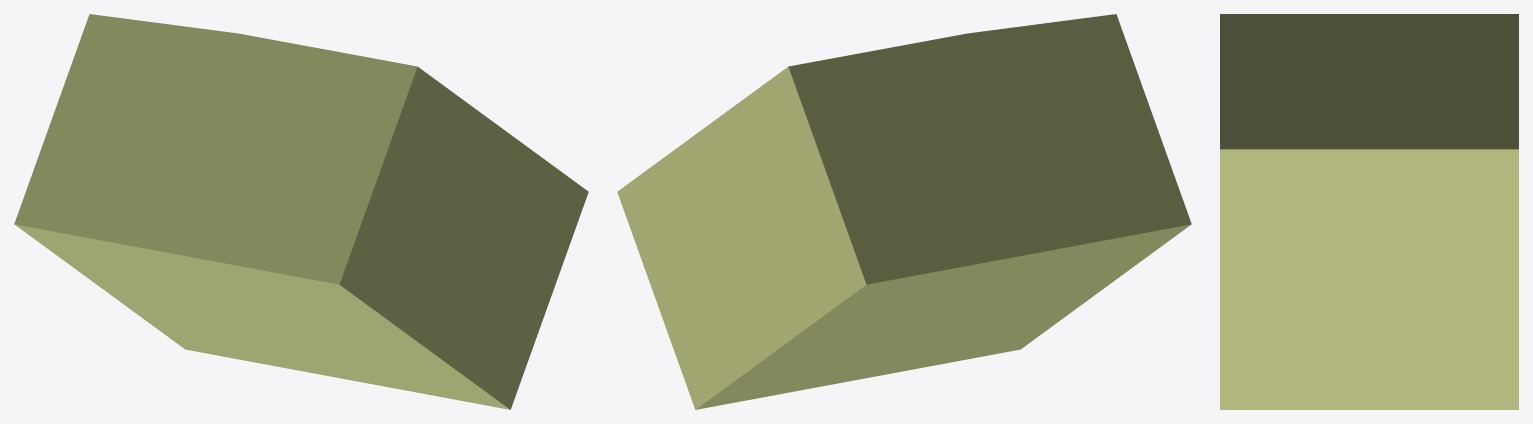
3 views of the same model, side by side, from view 1: azimuth 30°, elevation 25°; view 2: azimuth 150°, elevation 25°; view 3: azimuth 270°, elevation 25° (orthographic). The views are drawn at different scales.
Visible parts, largest first — view 1: 0_1_0_0_2_1_0_3_2_2_2; view 2: 0_1_0_0_2_1_0_3_2_2_2; view 3: 0_1_0_0_2_1_0_3_2_2_2.
Boxes of the visible parts, x1=… form: 0_1_0_0_2_1_0_3_2_2_2: x1=14, y1=14, x2=588, y2=409; 0_1_0_0_2_1_0_3_2_2_2: x1=617, y1=14, x2=1191, y2=409; 0_1_0_0_2_1_0_3_2_2_2: x1=1220, y1=14, x2=1518, y2=409.
Bounding box in the file's own units: 8.17 × 6.41 × 6.
